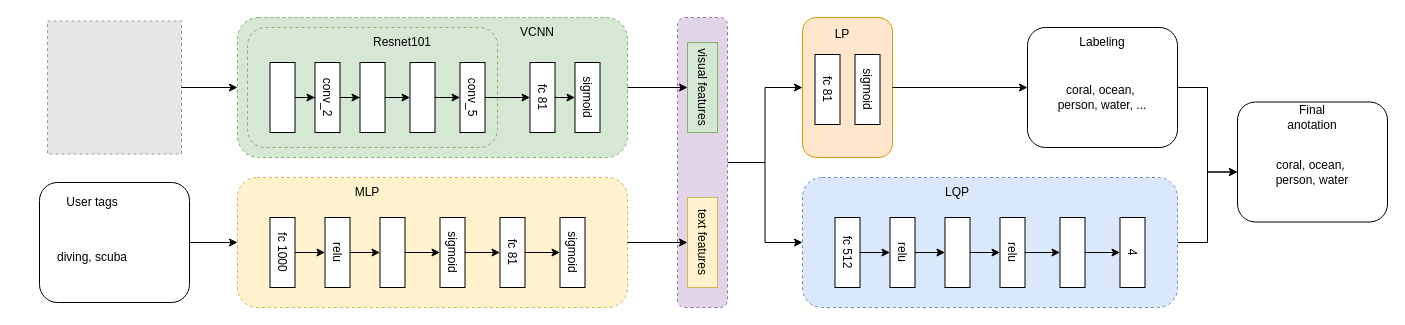
Image size: 1405x325. Some labels were removed from this diagram. Grey dashed boxes stand in for pictures. Here are the shapes that lost their labels. From the top down, the centre of each, then its label:
At point (282, 97): "conv_1".
At point (372, 97): "conv_3".
At point (422, 97): "conv_4".
At point (392, 252): "fc 2048".
At point (957, 252): "fc 256".
At point (1072, 252): "fc 1".
